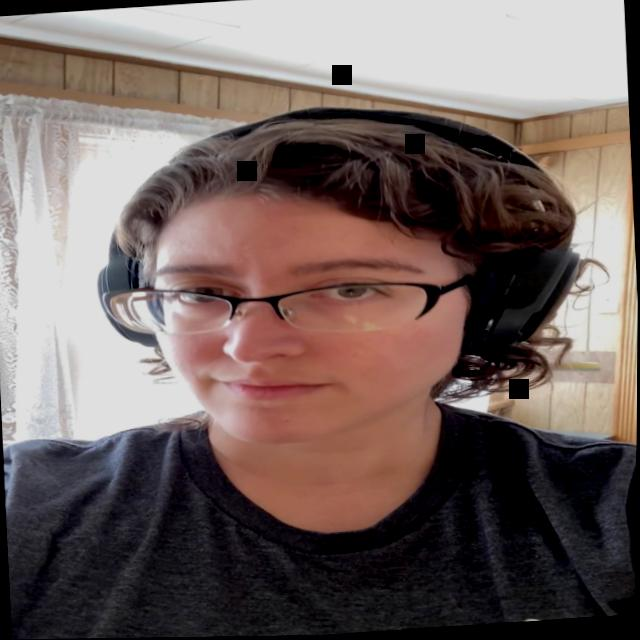NO-Mask: (146, 179, 484, 456)
